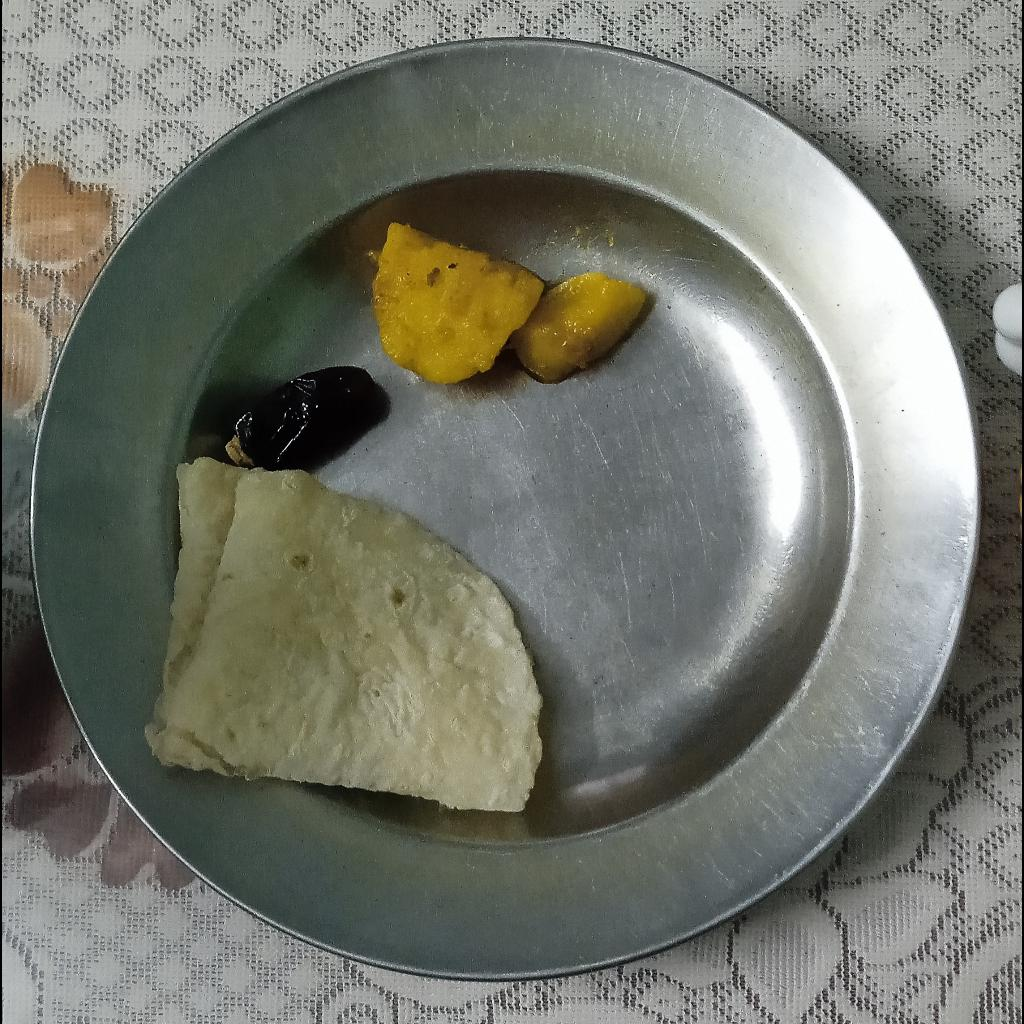dates: (227, 366, 393, 468)
potato: (372, 227, 646, 385)
ruti: (144, 455, 543, 813)
